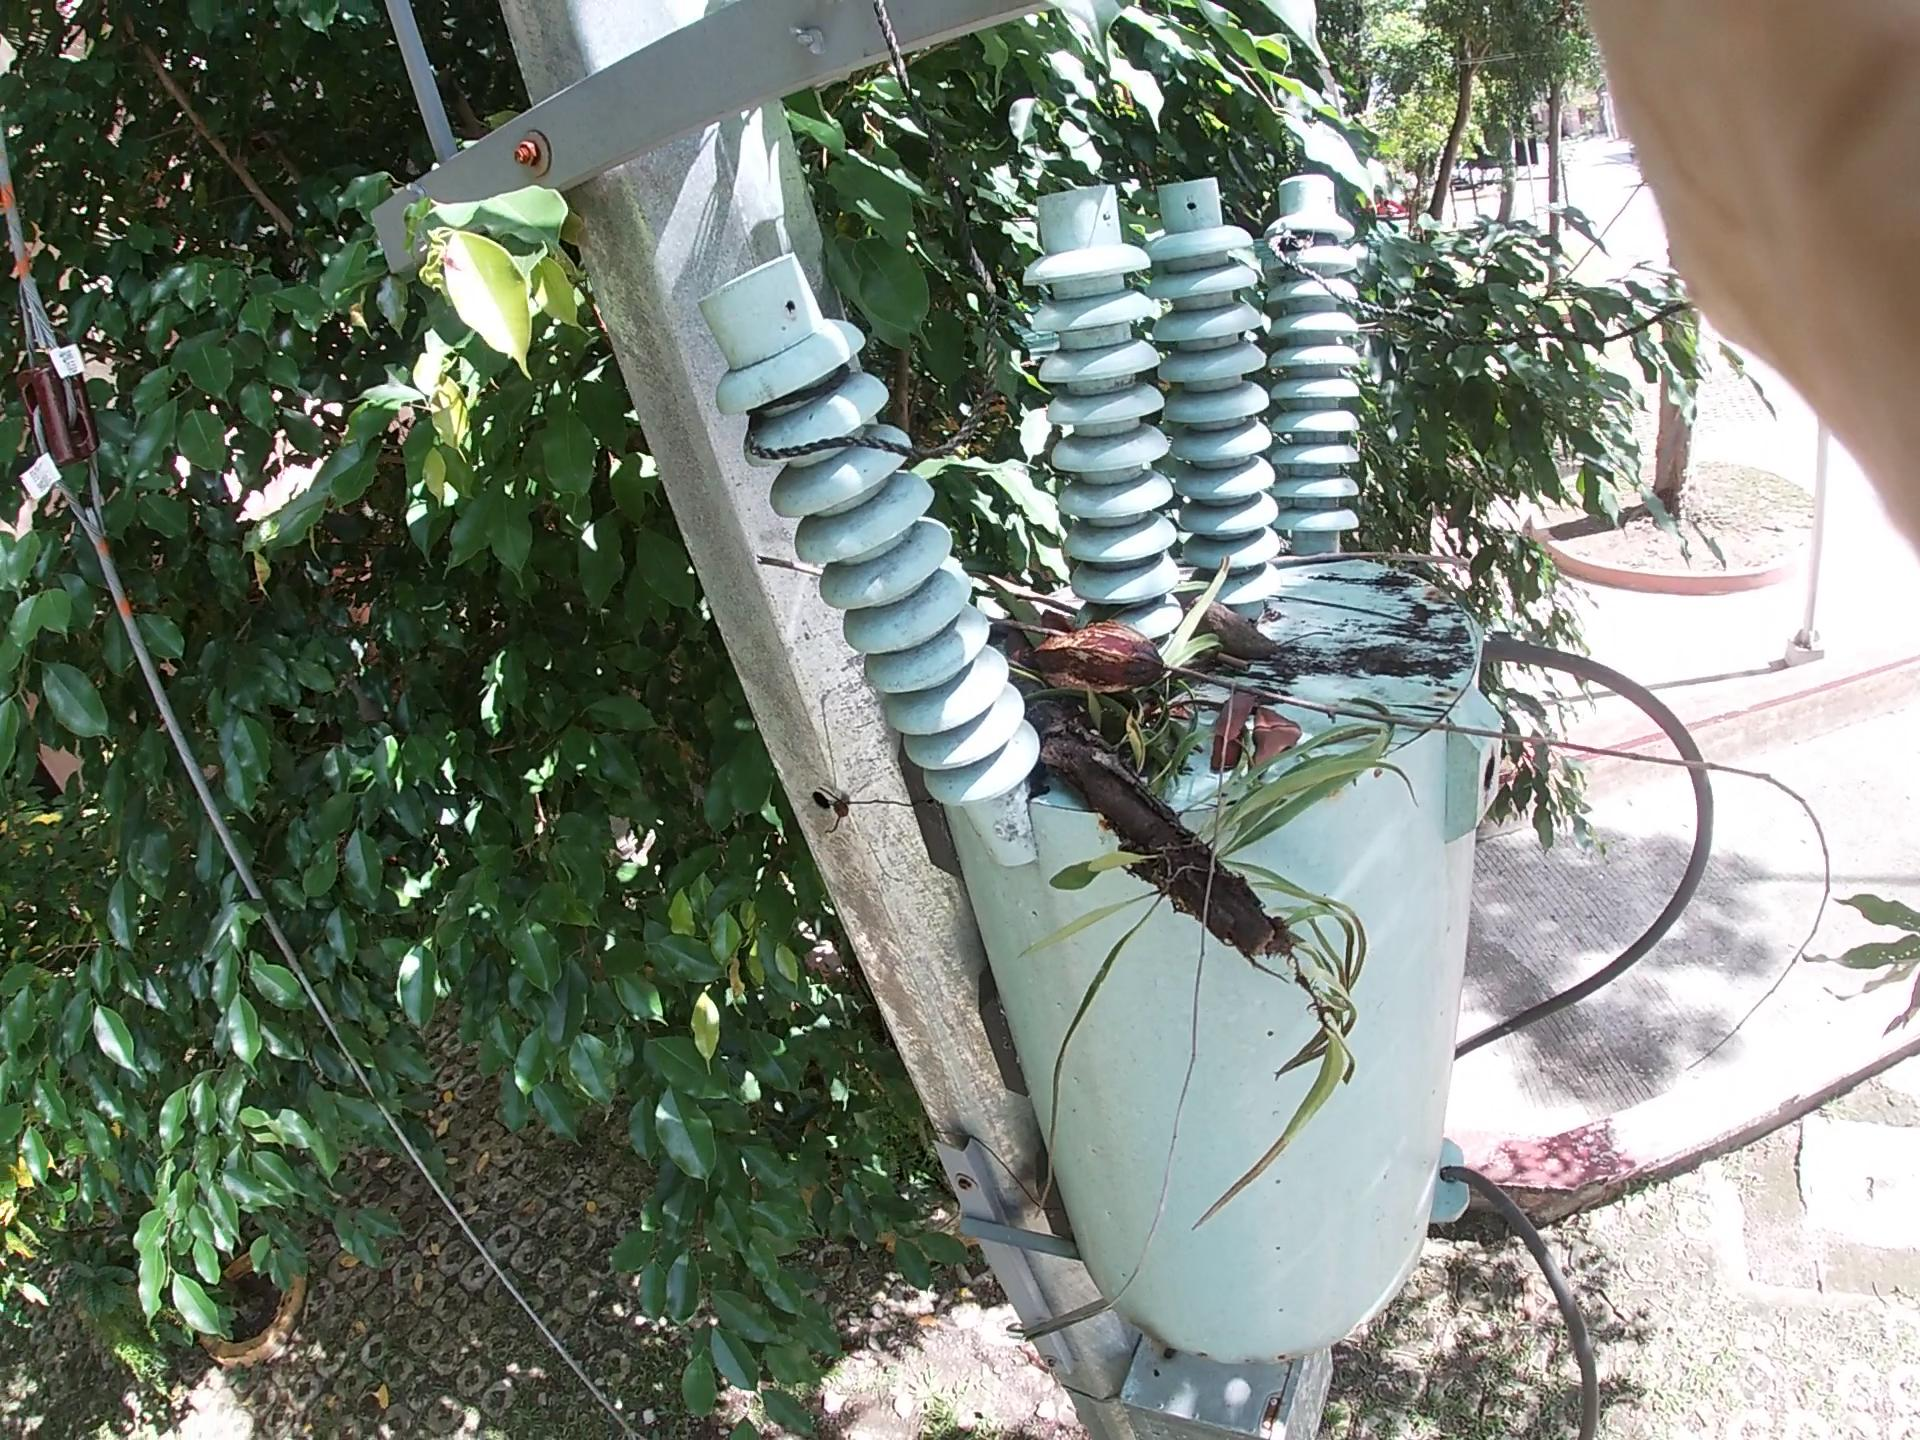branch with leaves: (996, 625, 1398, 1026)
leaf: (1190, 690, 1314, 839)
mahogany fruit: (996, 591, 1270, 750)
tree branch: (742, 560, 1819, 853), (1249, 502, 1497, 601), (1199, 641, 1318, 691)
